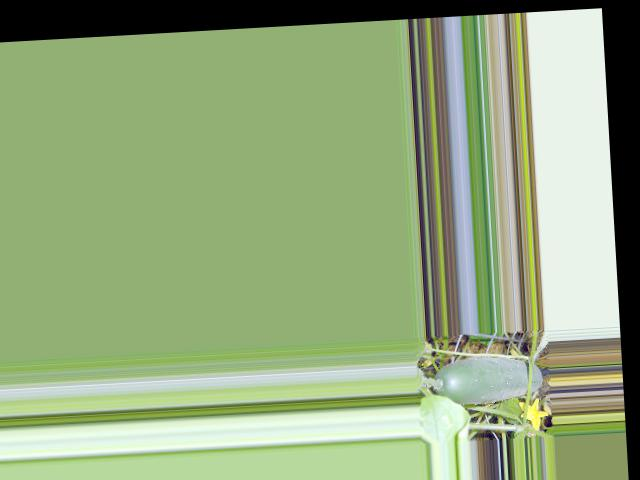cucumber: (431, 353, 542, 406)
